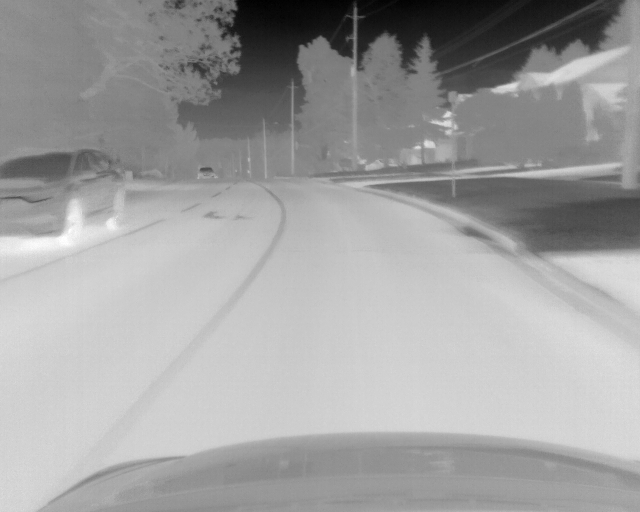car: (1, 147, 130, 249), (366, 157, 395, 169), (197, 165, 217, 181)
